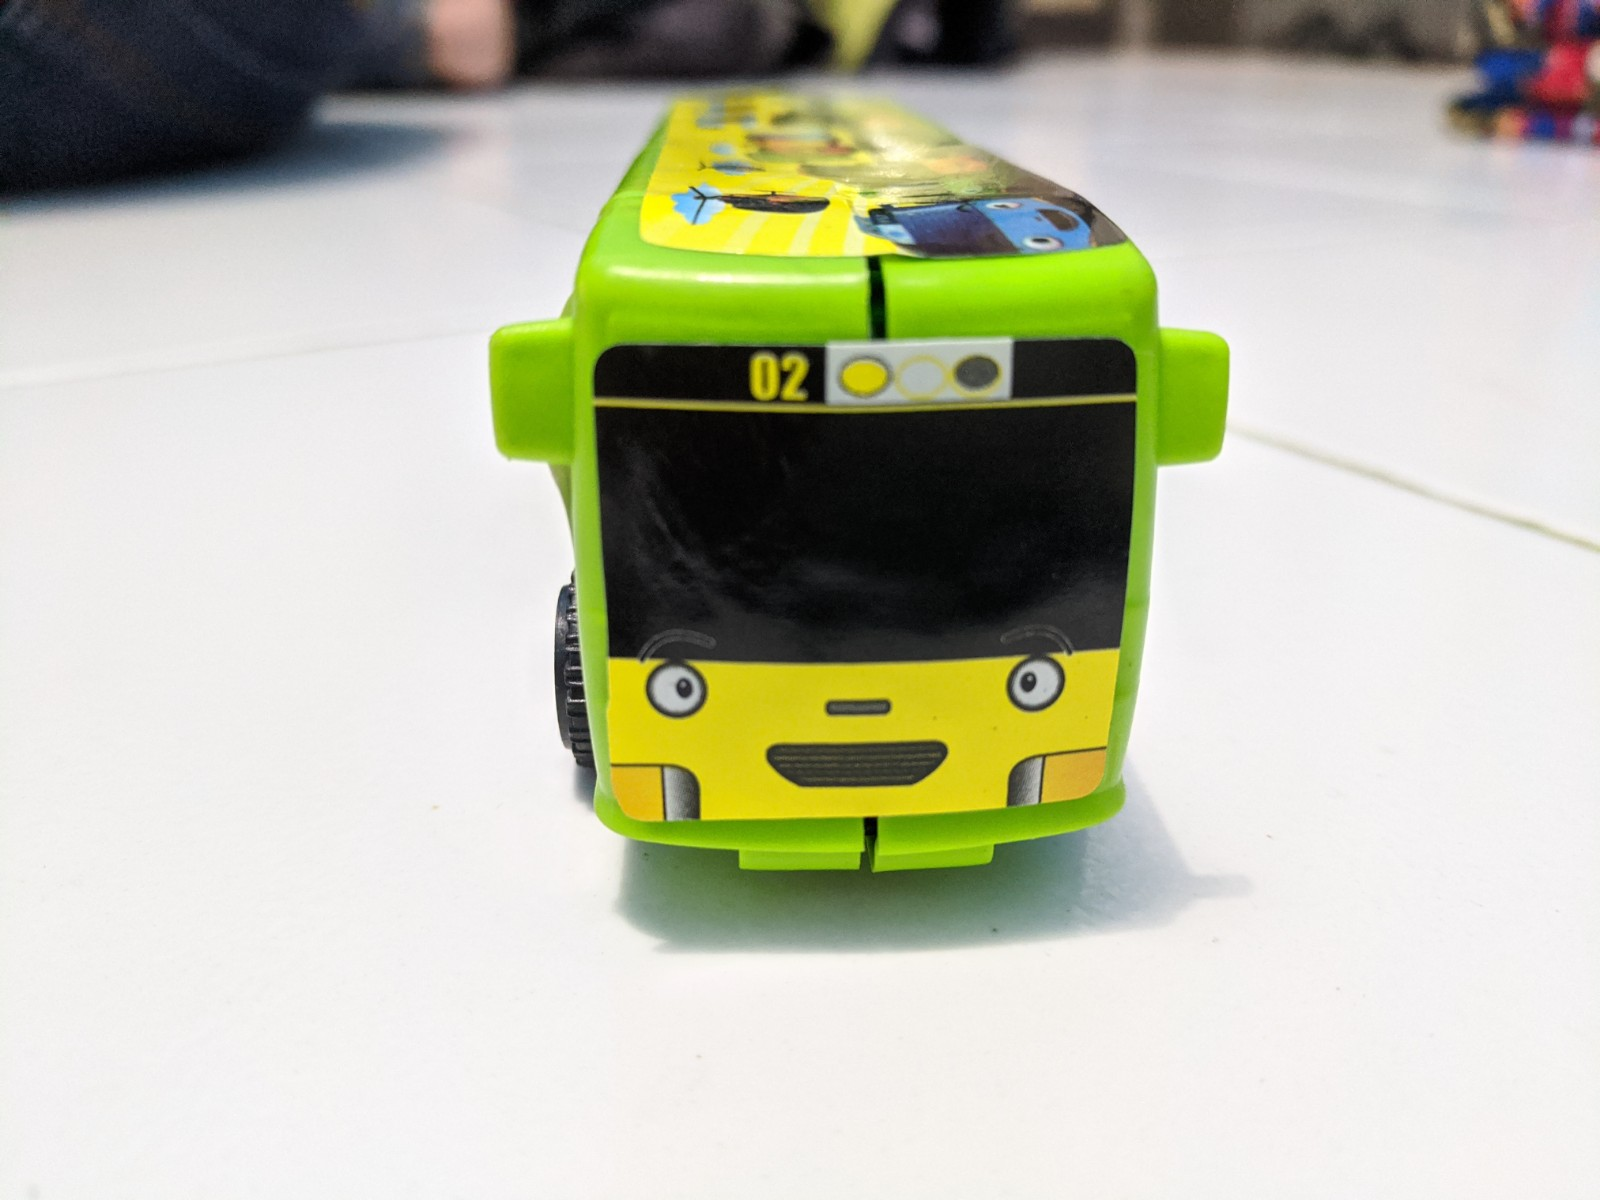bus: (583, 110, 1196, 895)
